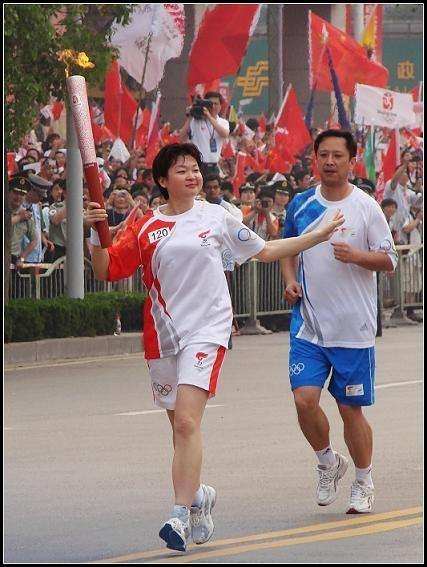fire: (56, 44, 97, 73)
